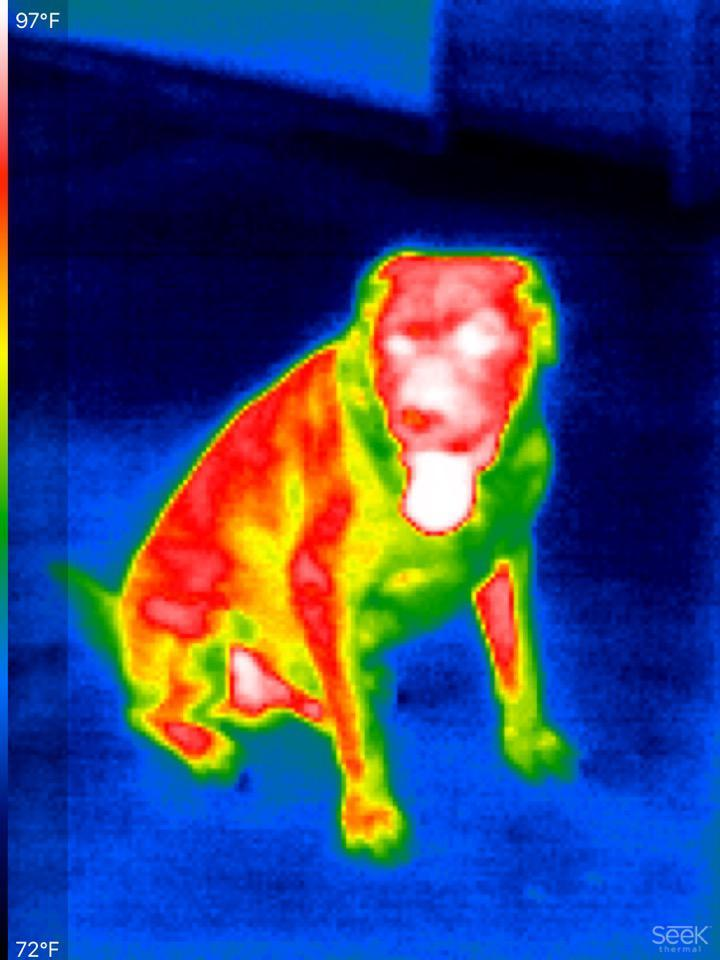dog: (119, 233, 591, 864)
